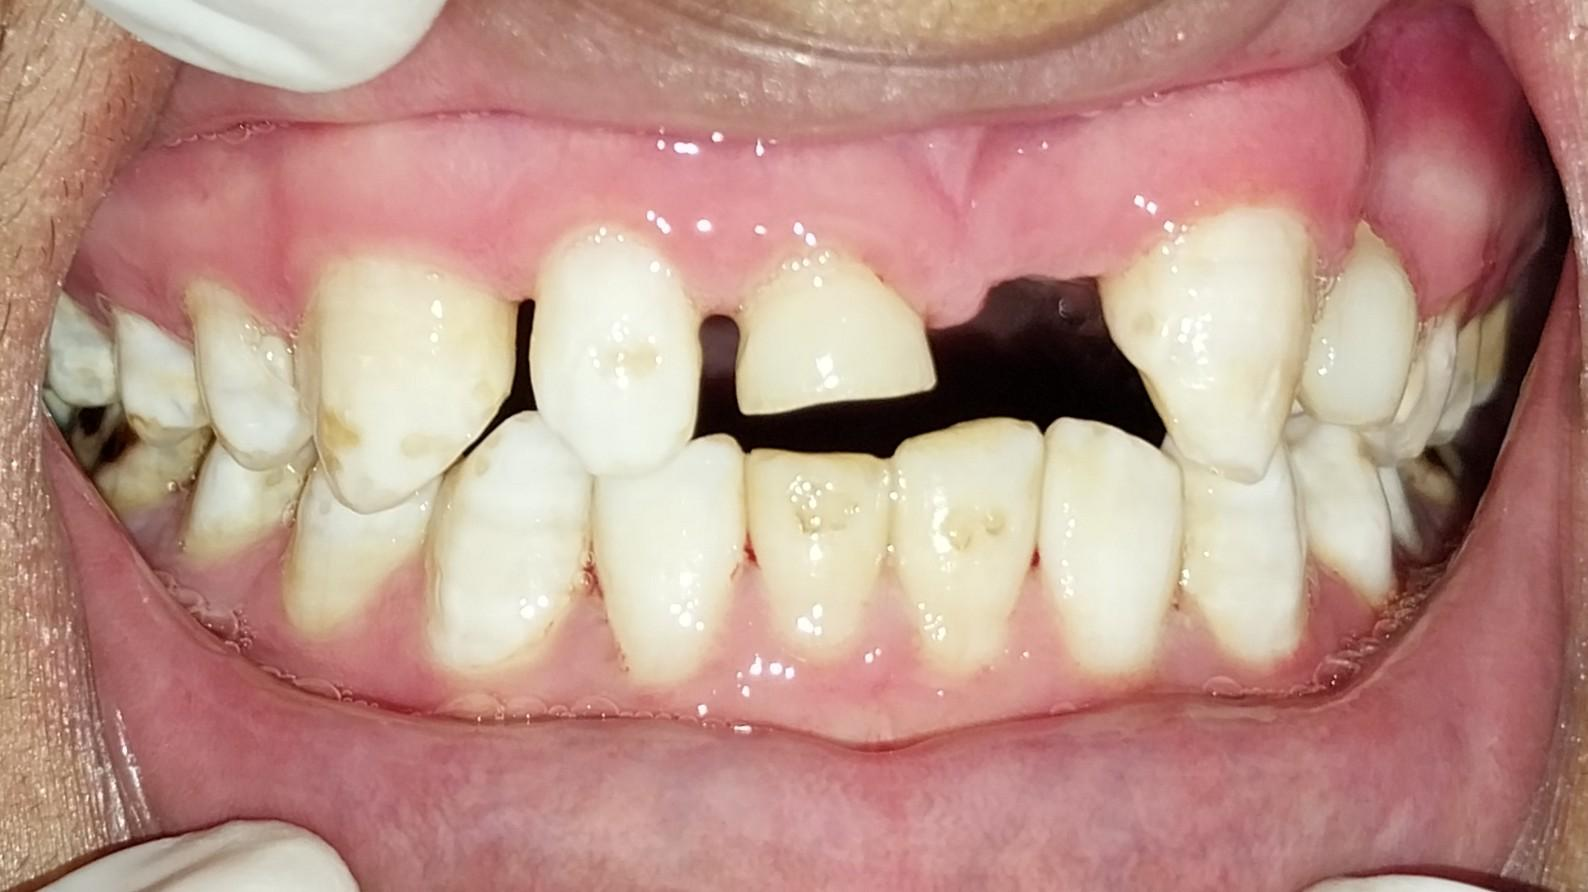D: (59, 397, 207, 515)
